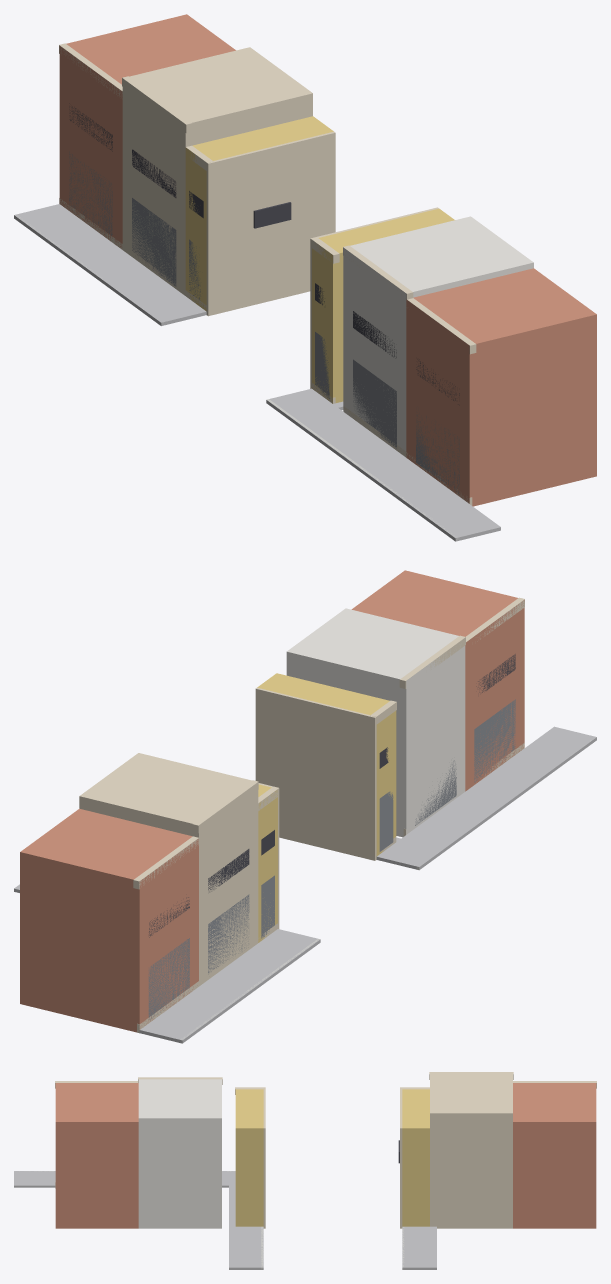
Rendered from SM_Manzana_Juarez_Sur_Esquina.fbx.
The picture shows the model from 3 angles, top to bottom: view 1: azimuth 30°, elevation 25°; view 2: azimuth 150°, elevation 25°; view 3: azimuth 270°, elevation 25°; orthographic projection. The views are drawn at different scales.
Visible parts, largest first — view 1: Banqueta_Sur_1; view 2: Banqueta_Sur_1; view 3: Banqueta_Sur_1.
Boxes of the visible parts, x1,y1,x2,y2 form: Banqueta_Sur_1: [14, 14, 596, 541]; Banqueta_Sur_1: [14, 570, 596, 1043]; Banqueta_Sur_1: [14, 1072, 596, 1269].
Size of the model in its own units: 16.5 by 9.21 by 42.05.
